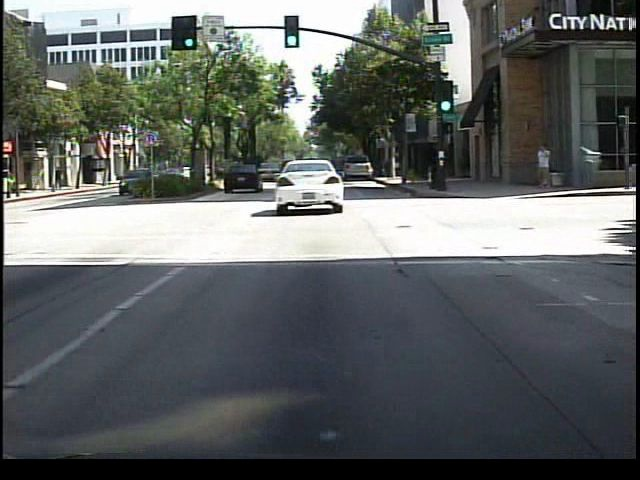person: (533, 141, 557, 194), (53, 162, 68, 196)
